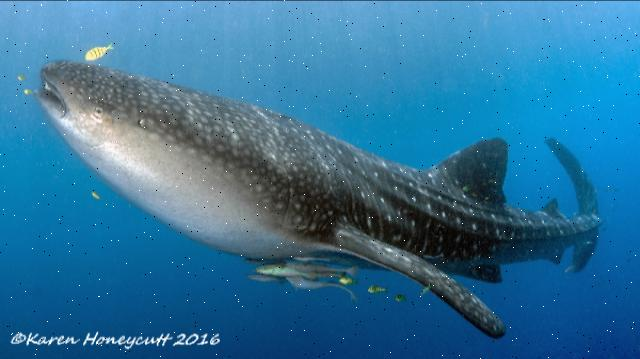Mulut: (14, 50, 90, 134)
Sirip Anal: (542, 234, 570, 272)
Sirip Dada: (310, 211, 516, 353)
Sirip Ekor: (540, 128, 614, 286)
Sirip Perut: (456, 252, 516, 292)
Sirip Punggung: (418, 120, 526, 216)
